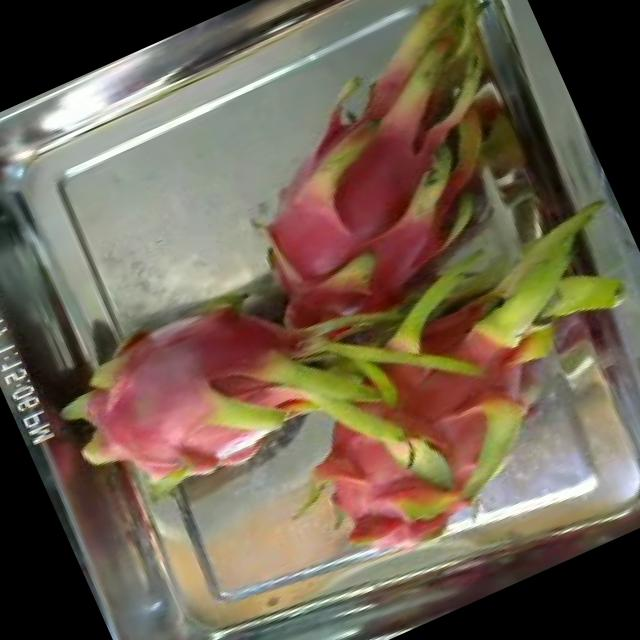Fruit: (142, 403, 397, 628)
